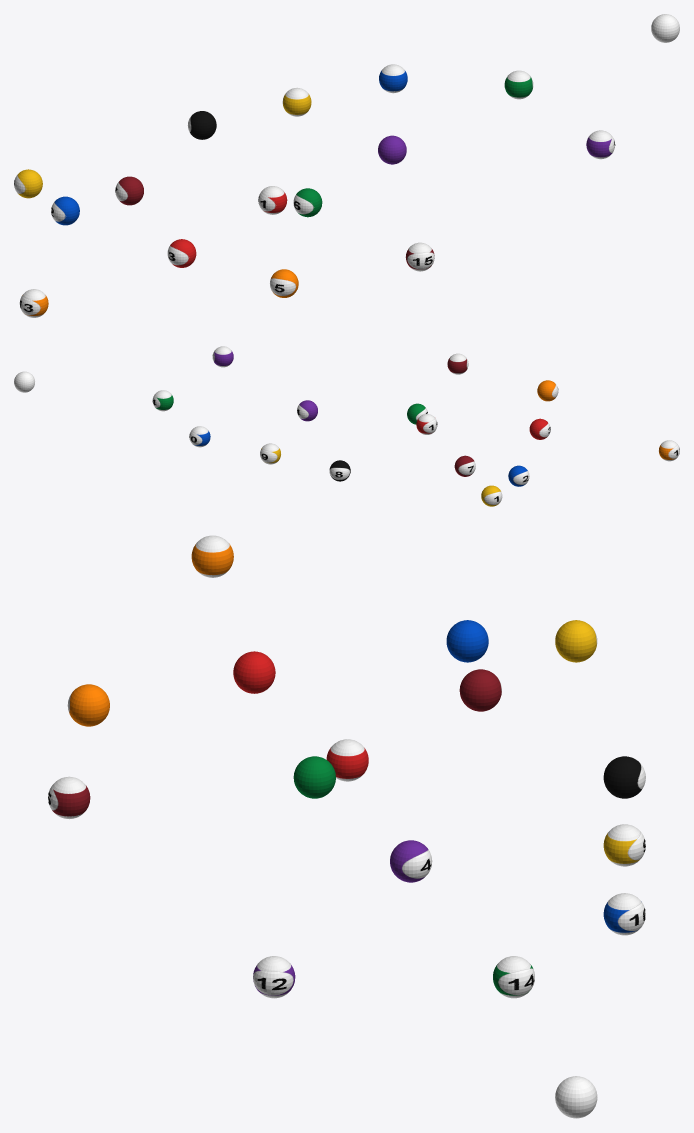
Rendered from PREFAB POoL Balls.fbx.
3 views of the same model, one above another, from view 1: azimuth 30°, elevation 25°; view 2: azimuth 150°, elevation 25°; view 3: azimuth 270°, elevation 25° (orthographic). The views are drawn at different scales.
Visible parts, largest first — view 1: Sphere.001, Sphere.003, Sphere.014, Sphere.000, Sphere.011, Sphere.012, Sphere.013, Sphere.002, Sphere.009, Sphere.004, Sphere.006, Sphere.007 (+4 smaller); view 2: Sphere.007, Sphere.010, Sphere.013, Sphere.014, Sphere.001, Sphere.002, Sphere.005, Sphere.003, Sphere.012, Sphere.008, Sphere.011, Sphere.015 (+4 smaller); view 3: Sphere.015, Sphere.014, Sphere.000, Sphere.013, Sphere.005, Sphere.012, Sphere.003, Sphere.006, Sphere.007, Sphere.009, Sphere.011, Sphere.008 (+4 smaller).
Part boxes in pixels (left/top/right/bottom): Sphere.001: left=504, top=70, right=533, bottom=99; Sphere.003: left=586, top=130, right=615, bottom=159; Sphere.014: left=14, top=169, right=42, bottom=198; Sphere.000: left=19, top=289, right=48, bottom=317; Sphere.011: left=378, top=135, right=406, bottom=164; Sphere.012: left=167, top=239, right=196, bottom=267; Sphere.013: left=51, top=196, right=79, bottom=225; Sphere.002: left=405, top=242, right=434, bottom=271; Sphere.009: left=293, top=188, right=322, bottom=217; Sphere.004: left=258, top=186, right=287, bottom=214; Sphere.006: left=282, top=87, right=311, bottom=116; Sphere.007: left=187, top=111, right=216, bottom=139; Sphere.007: left=329, top=460, right=350, bottom=481; Sphere.010: left=537, top=380, right=558, bottom=401; Sphere.013: left=508, top=465, right=529, bottom=486; Sphere.014: left=481, top=485, right=502, bottom=506; Sphere.001: left=152, top=390, right=173, bottom=411; Sphere.002: left=447, top=353, right=468, bottom=374; Sphere.005: left=189, top=426, right=210, bottom=447; Sphere.003: left=212, top=346, right=233, bottom=367; Sphere.012: left=529, top=418, right=550, bottom=439; Sphere.008: left=454, top=455, right=475, bottom=476; Sphere.011: left=297, top=400, right=317, bottom=421; Sphere.015: left=14, top=371, right=34, bottom=392; Sphere.015: left=555, top=1076, right=597, bottom=1118; Sphere.014: left=555, top=620, right=597, bottom=662; Sphere.000: left=191, top=535, right=233, bottom=577; Sphere.013: left=446, top=620, right=488, bottom=662; Sphere.005: left=603, top=893, right=645, bottom=935; Sphere.012: left=233, top=651, right=275, bottom=693; Sphere.003: left=253, top=956, right=295, bottom=998; Sphere.006: left=603, top=824, right=645, bottom=866; Sphere.007: left=603, top=756, right=645, bottom=798; Sphere.009: left=293, top=756, right=335, bottom=798; Sphere.011: left=390, top=840, right=432, bottom=882; Sphere.008: left=459, top=669, right=501, bottom=711.
Bounding box in the file's own units: 1.78 × 0.0571 × 0.8055.
Materials: 16 (16 with a texture image).
